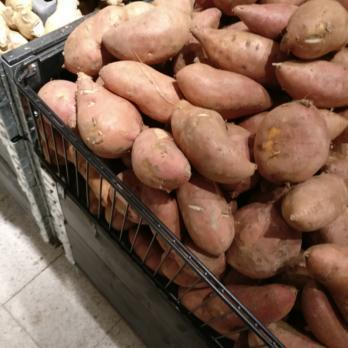Sweet potato: (171, 0, 348, 230), (62, 1, 181, 156), (287, 233, 348, 342), (201, 232, 288, 277), (232, 285, 307, 322)
